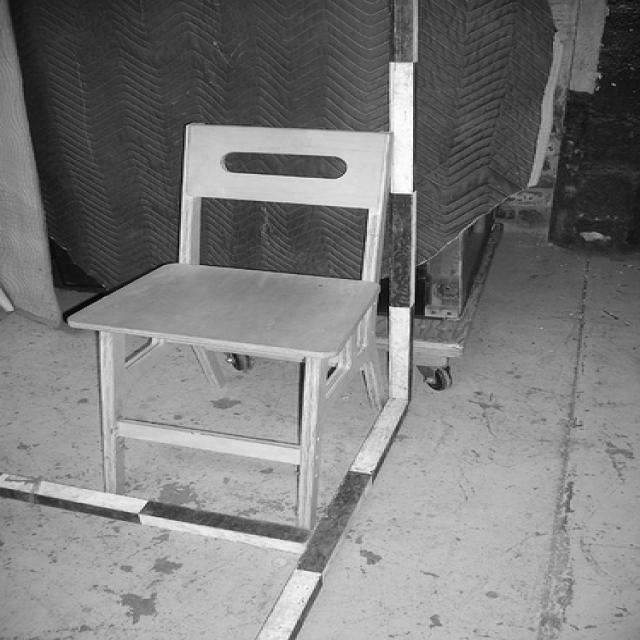chair: (64, 121, 395, 530)
